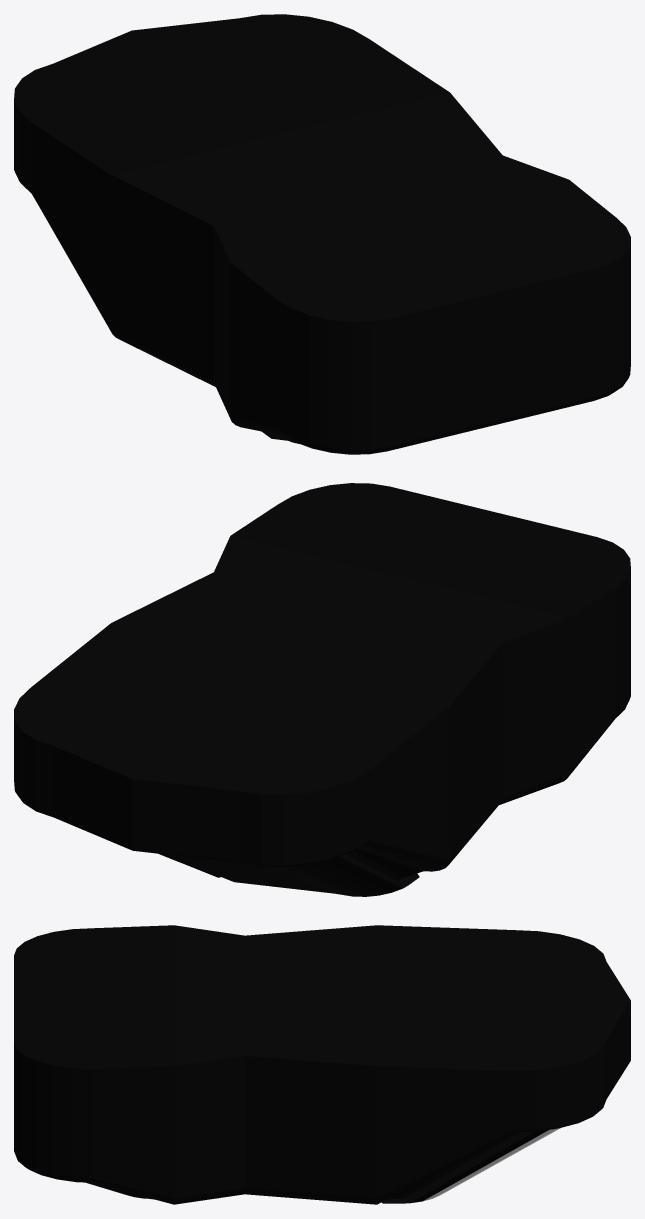
File: mouse.obj
3 views of the same model, one above another, from view 1: azimuth 30°, elevation 25°; view 2: azimuth 150°, elevation 25°; view 3: azimuth 270°, elevation 25° (orthographic). The views are drawn at different scales.
Parts seen in each view (by area): view 1: 立方体; view 2: 立方体; view 3: 立方体.
Part boxes in pixels (left/top/right/bottom): 立方体: left=14, top=14, right=630, bottom=454; 立方体: left=14, top=483, right=630, bottom=896; 立方体: left=14, top=925, right=630, bottom=1204.
Size of the model in its own units: 0.2 by 0.1 by 0.37.
1 material, 1 textured.
